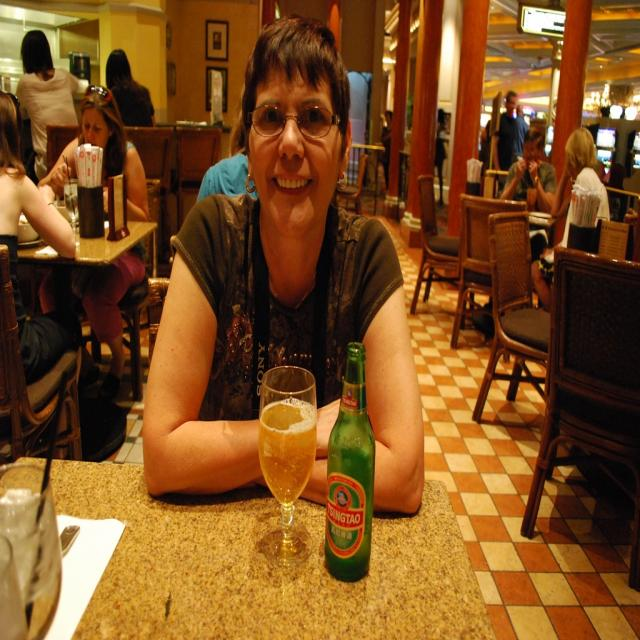tsingtao: (326, 473, 366, 558)
